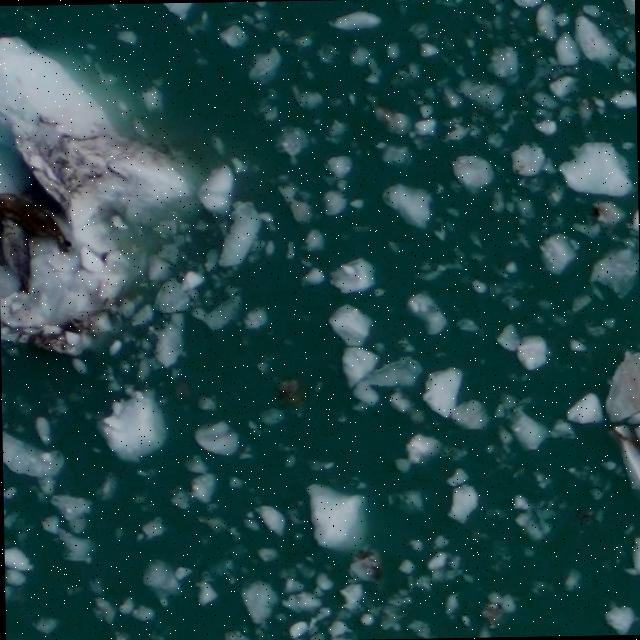seal: (0, 195, 71, 253), (1, 222, 30, 295), (0, 220, 5, 265)
